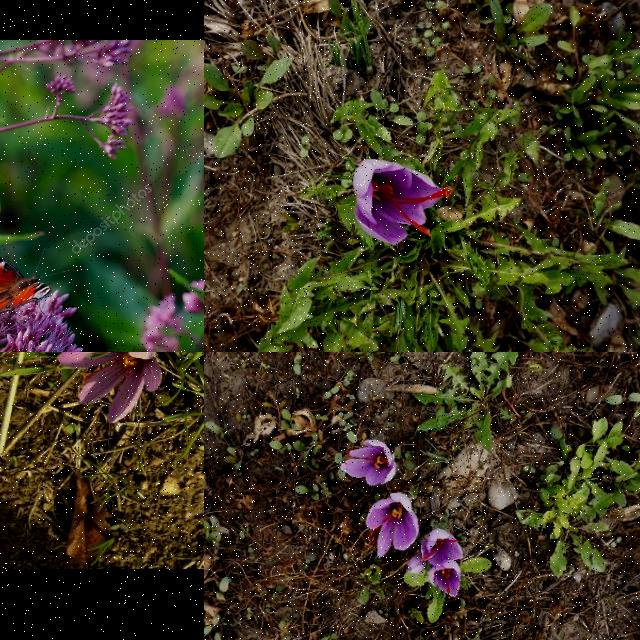flower: (353, 158, 455, 246), (57, 352, 164, 423), (365, 493, 419, 559), (340, 439, 396, 486), (420, 529, 466, 565), (428, 562, 462, 596), (408, 554, 426, 576)
